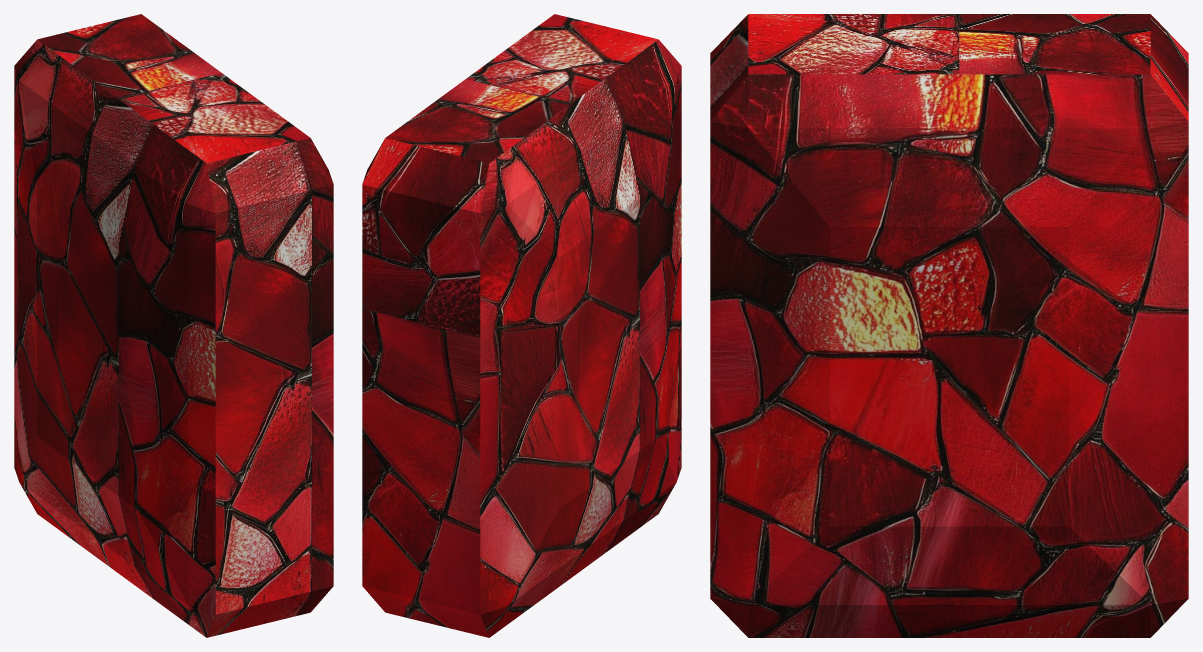
Rendered from gemstone6RedCompressed.glb.
3 renders of one model, left to right at view 1: azimuth 30°, elevation 25°; view 2: azimuth 150°, elevation 25°; view 3: azimuth 270°, elevation 25°, orthographic. The views are drawn at different scales.
Visible parts, largest first — view 1: gemstone5; view 2: gemstone5; view 3: gemstone5.
Part boxes in pixels (x1,y1,x2,y2): gemstone5: (14, 14, 333, 637); gemstone5: (362, 14, 681, 637); gemstone5: (710, 14, 1188, 637).
Bounding box in the file's own units: 0.5 × 1.3 × 1.
Materials: 1 (1 with a texture image).
